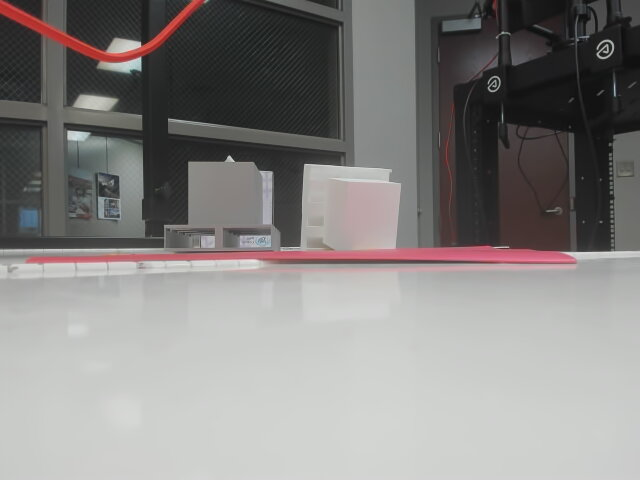grey pallet: (163, 153, 283, 254), (160, 150, 163, 150)
white pallet: (295, 162, 403, 256)
